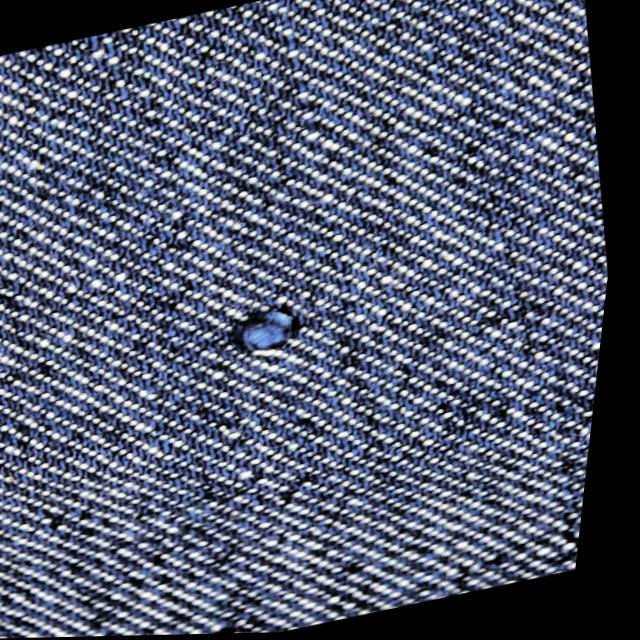Hole: (253, 310, 305, 352)
